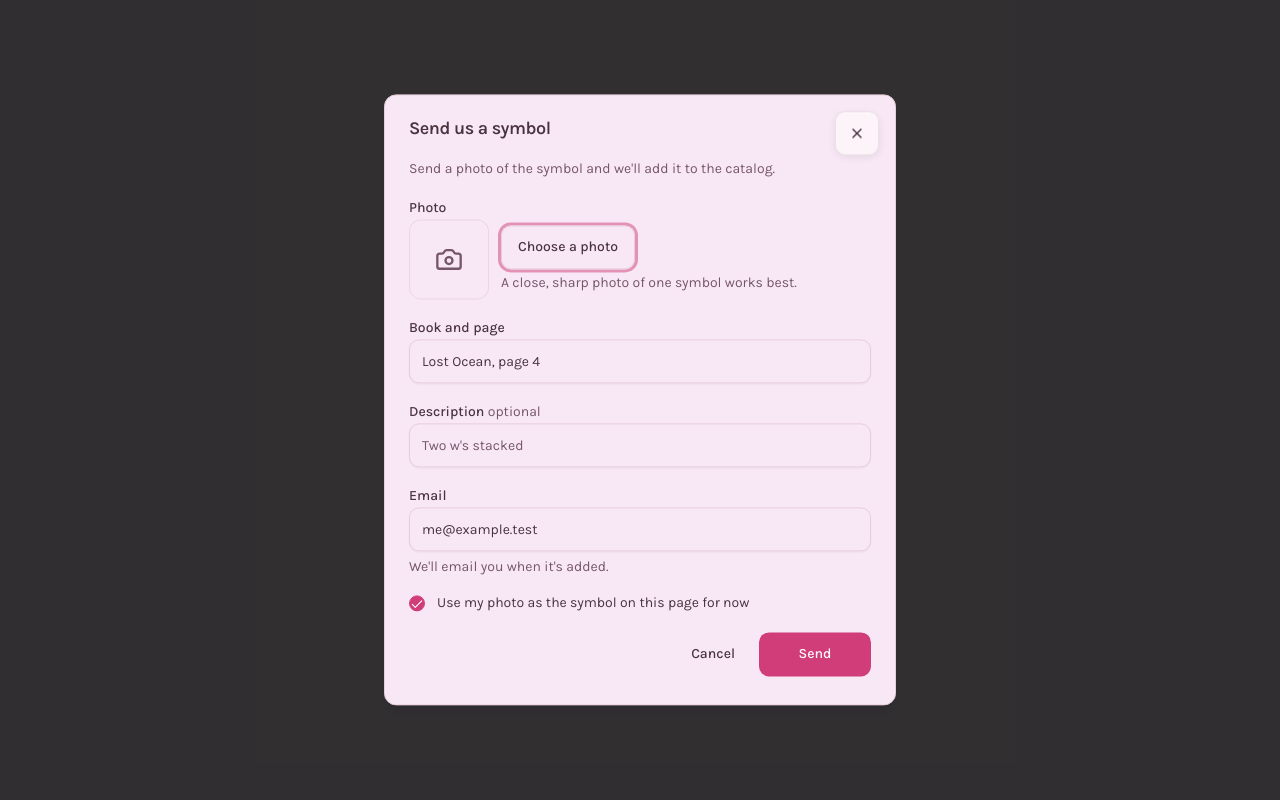
Test: SymbolRequestDialog › asks for a photo before sending anything
The width and height of the screenshot is (1280, 800).
Click the button "Send" at (815, 655), box [759,633,871,677]
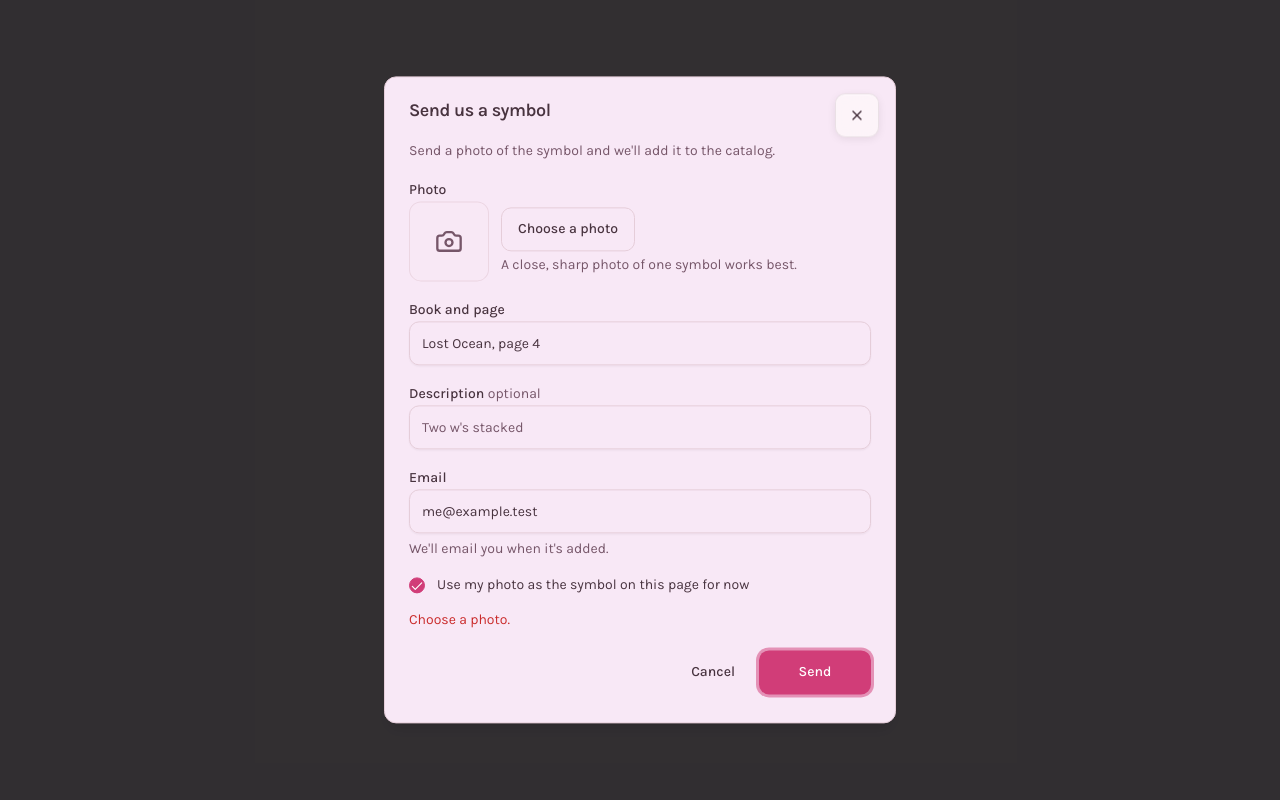
expect the message reads "Choose a photo.": met, box [409,612,510,629]
